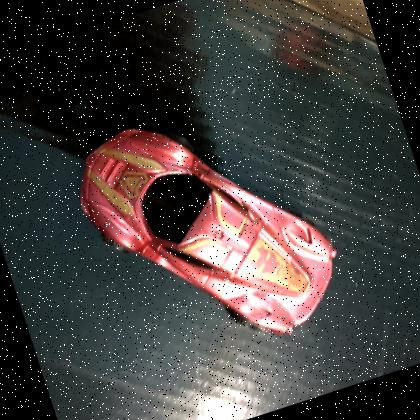Car: (58, 73, 360, 388)
